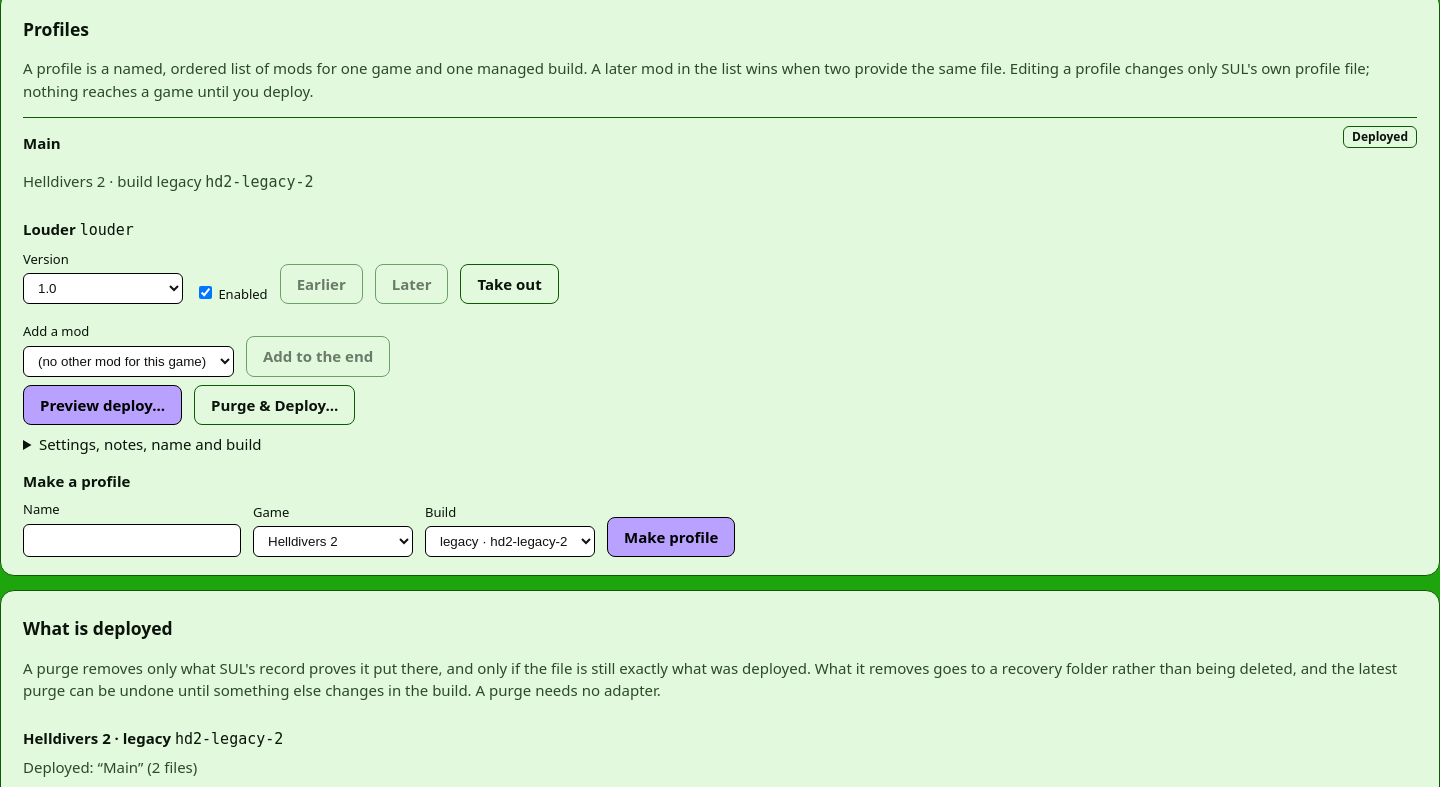
Test: deploy, purge and undo ask before they change anything › Purge & Deploy is only offered for a deployed profile, asks first, and sends one combined call after the answer
Later steps or results of the test are not shown.
(page scrolled)
Step 1. Click the button "Purge & Deploy…" → (275, 405), box 194,385 -> 355,425
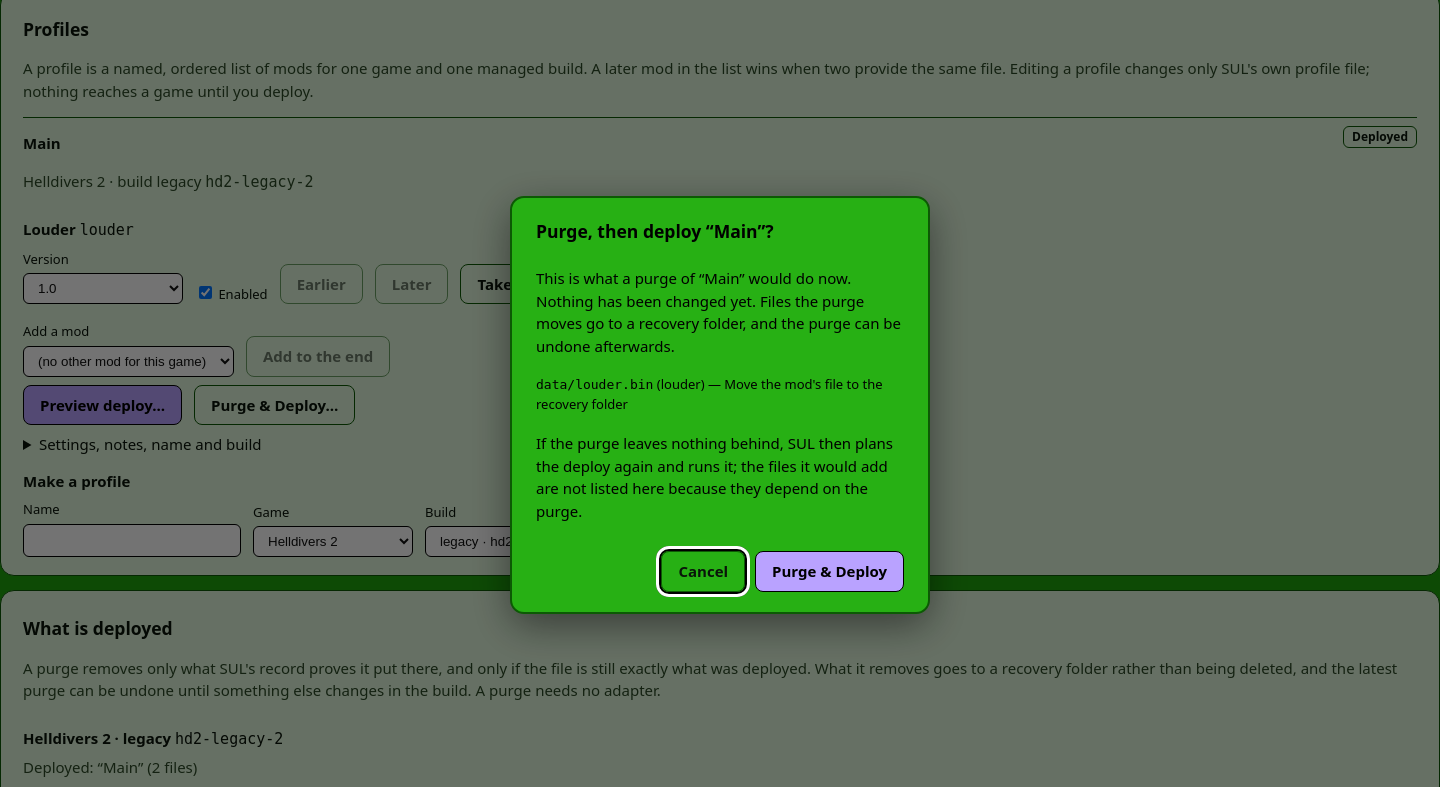
Check: the dialog shows "Purge, then deploy “Main”?", box 536,219 -> 774,243
Check: the dialog shows "the files it would add are not listed here because they depend on the purge", box 536,433 -> 893,521
